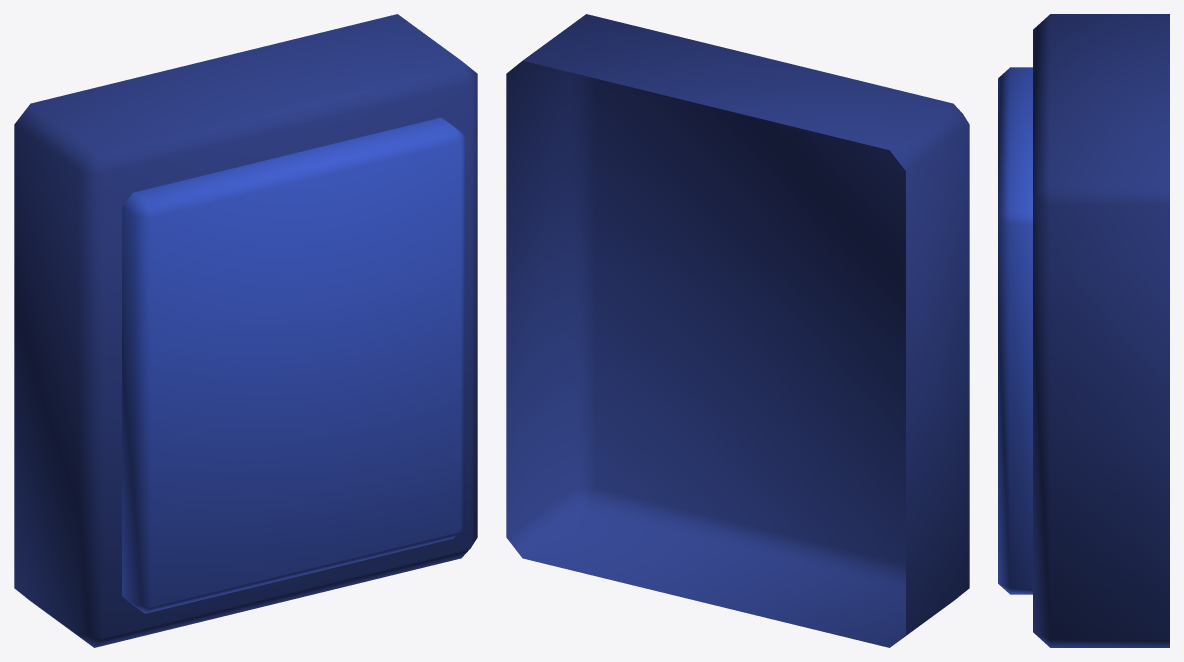
The model's file is ElectricBox_2_B_1.fbx.
The picture shows the model from 3 angles, left to right: view 1: azimuth 30°, elevation 25°; view 2: azimuth 150°, elevation 25°; view 3: azimuth 270°, elevation 25°; orthographic projection. The views are drawn at different scales.
Parts seen in each view (by area): view 1: ElectricBox_2_B_1; view 2: ElectricBox_2_B_1; view 3: ElectricBox_2_B_1.
Part boxes in pixels (x1=…): ElectricBox_2_B_1: x1=14, y1=14, x2=477, y2=647; ElectricBox_2_B_1: x1=506, y1=14, x2=969, y2=647; ElectricBox_2_B_1: x1=998, y1=14, x2=1169, y2=647.
Size of the model in its own units: 38.15 by 45.42 by 15.17.
